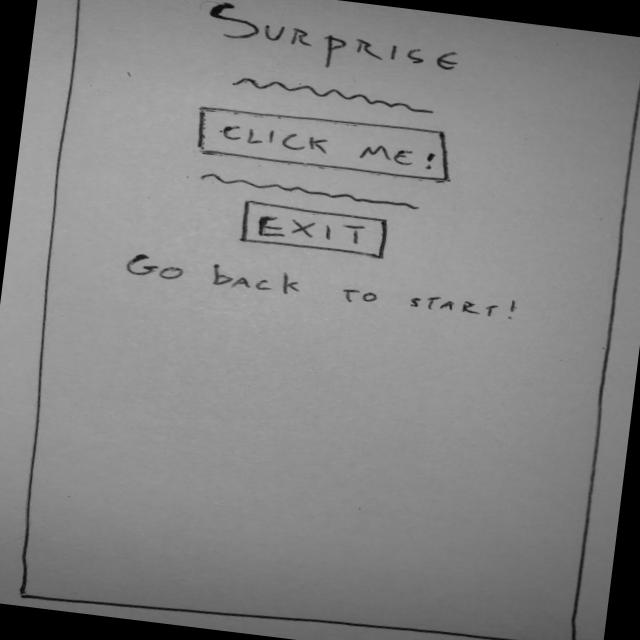button: (187, 99, 469, 188), (240, 198, 396, 264)
container: (1, 1, 640, 640)
label: (117, 246, 537, 331), (187, 1, 490, 88)
text: (212, 68, 464, 123), (198, 170, 436, 220)
